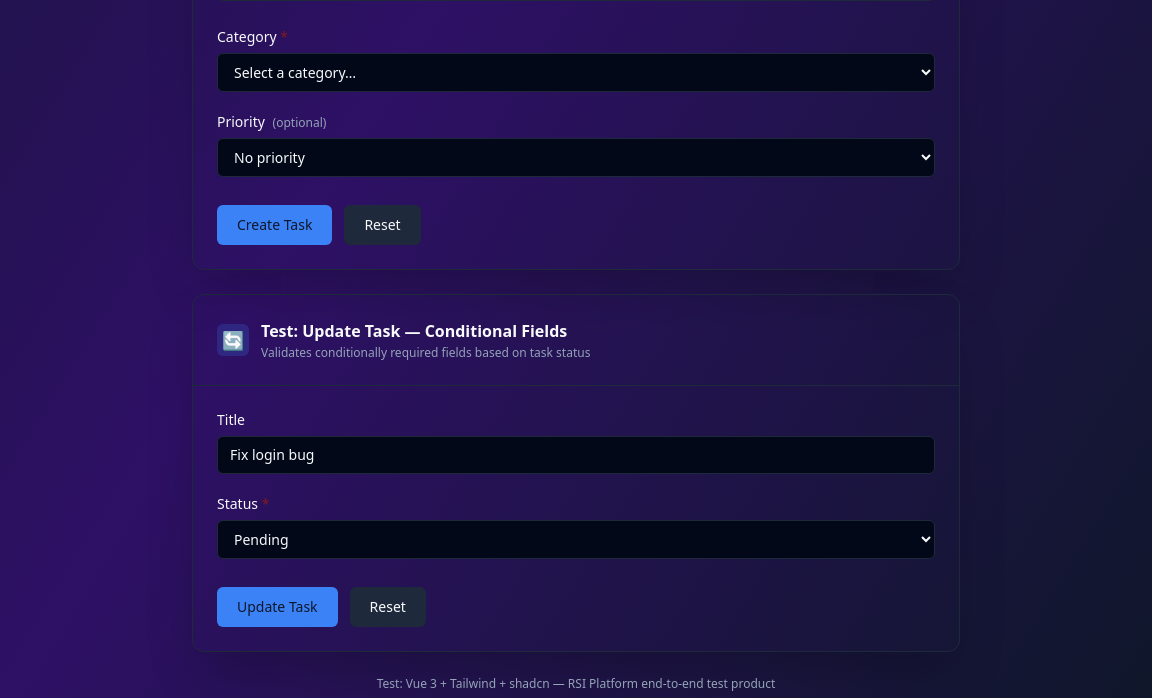
it: Update Task — Conditional Fields › shows error for blocked reason when submitting with blocked status and empty reason
(page scrolled)
Select "Blocked" in the dropdown with id "update-status" at (576, 540), box [217,520,935,559]
(page scrolled)
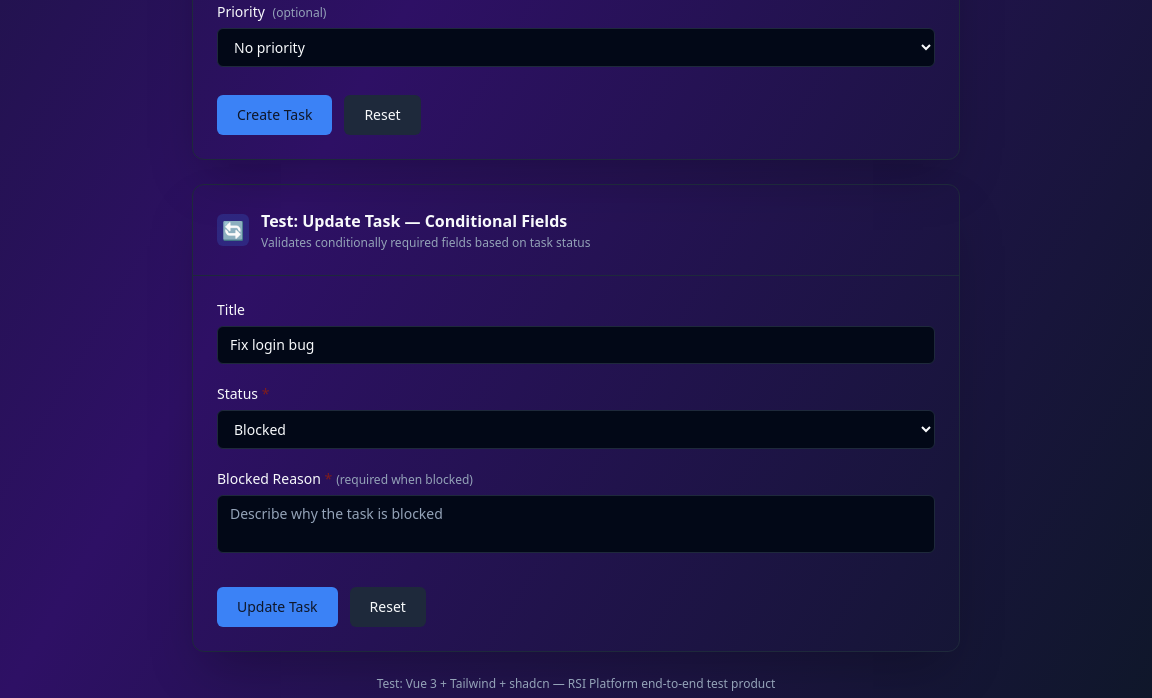
Submit the form with id "update-form", box [217,300,935,627]
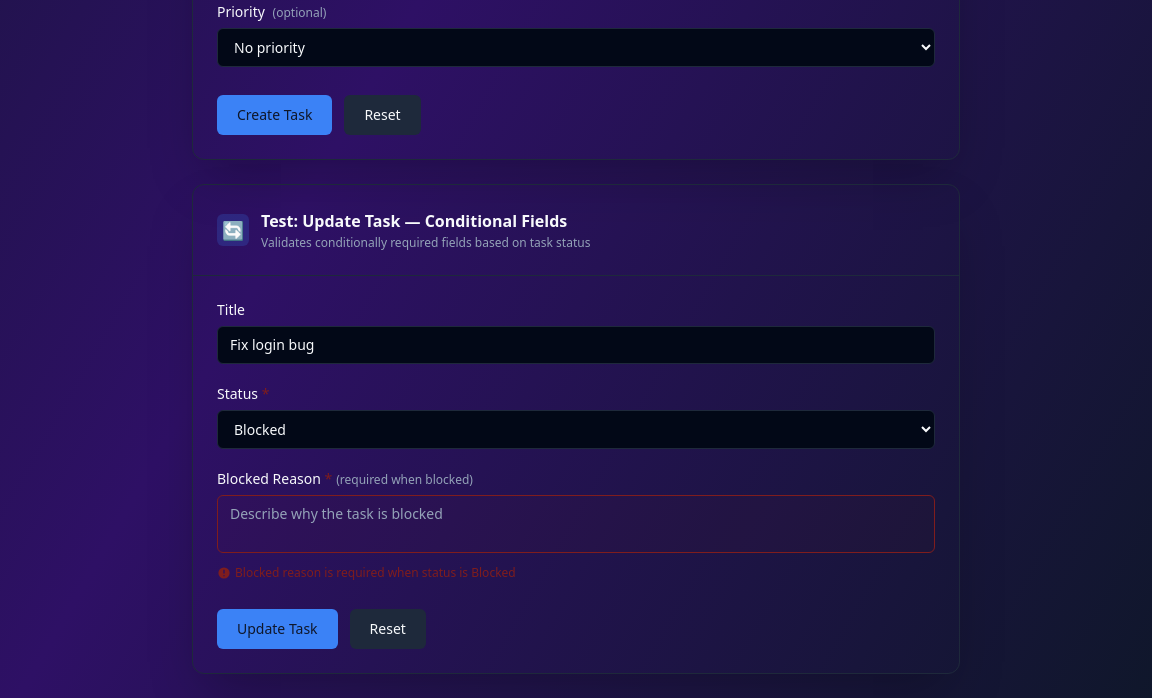
Result: the text "Blocked reason is required" is shown at [235,564,516,581]
